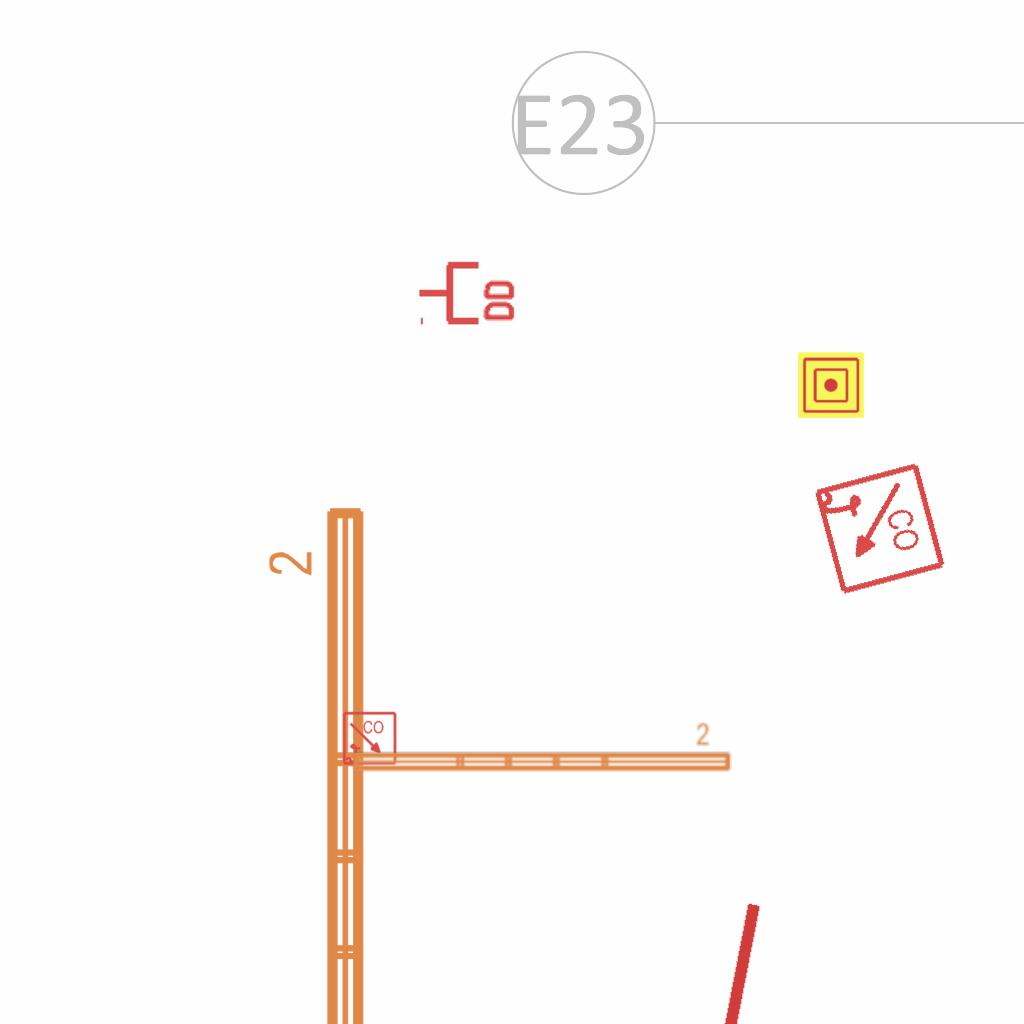ASR_Ansaugoeffnung: (696, 894, 776, 1024)
Ambulanz_Pendelleuchte_LED: (264, 499, 376, 1024), (348, 721, 735, 777)
Datenanschluss_zweifach: (416, 257, 519, 326)
NAM-Nichtautomatischer_Melder: (798, 352, 864, 418)
ROA_Rauchmelder_optisch_mit_Signalgeber_(Sockelsirene): (809, 460, 948, 599), (342, 711, 398, 767)
